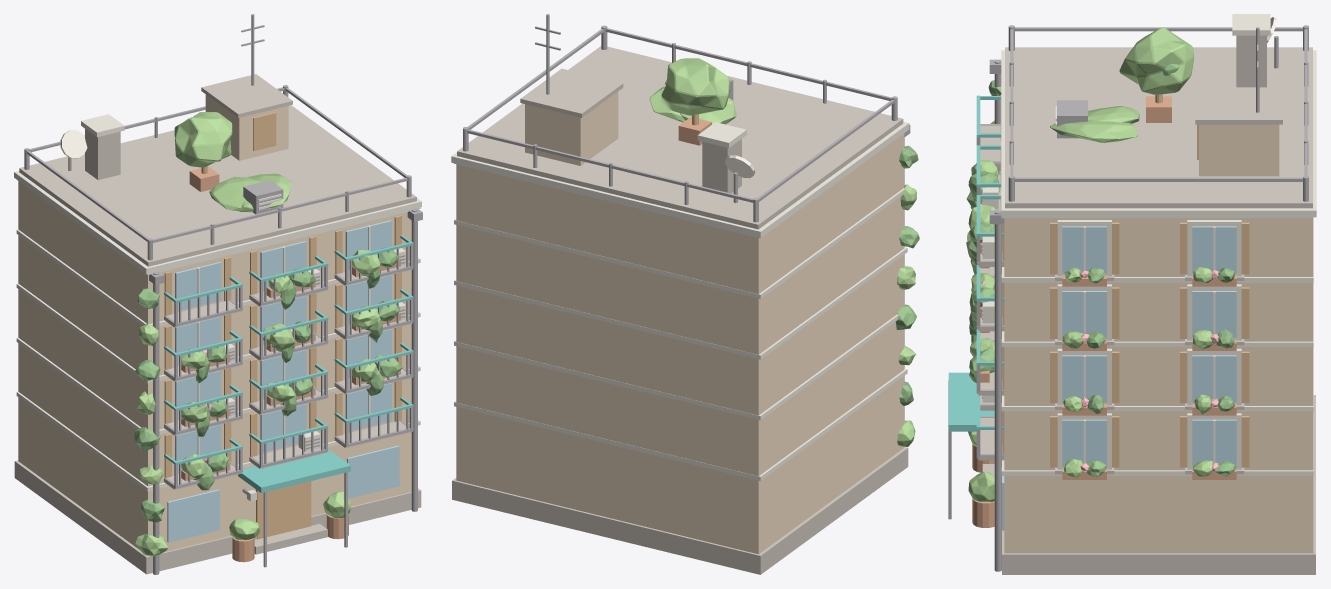
The model's file is Building_Apartment_B.fbx.
3 renders of one model, left to right at view 1: azimuth 30°, elevation 25°; view 2: azimuth 150°, elevation 25°; view 3: azimuth 270°, elevation 25°, orthographic. The views are drawn at different scales.
Parts seen in each view (by area): view 1: Building_Apartment_B, Building_Apartment_B_Veg; view 2: Building_Apartment_B, Building_Apartment_B_Veg; view 3: Building_Apartment_B, Building_Apartment_B_Veg.
Part boxes in pixels (<box>): Building_Apartment_B: <box>14,14,422,574</box>; Building_Apartment_B_Veg: <box>134,112,402,562</box>; Building_Apartment_B: <box>451,14,910,574</box>; Building_Apartment_B_Veg: <box>649,58,919,446</box>; Building_Apartment_B: <box>948,14,1316,574</box>; Building_Apartment_B_Veg: <box>966,27,1236,527</box>.
Bounding box in the file's own units: 6.68 × 9.13 × 5.95.
